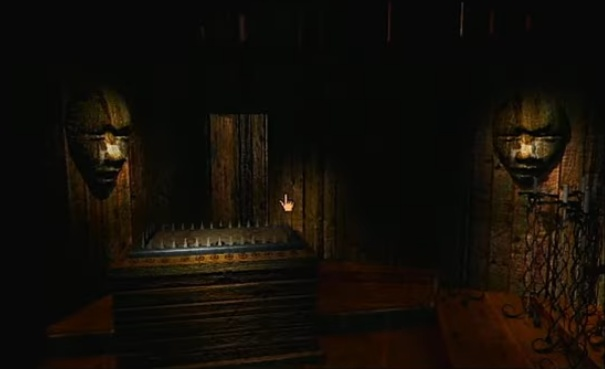Pointer: (276, 190, 299, 213)
